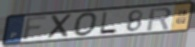8: (125, 9, 145, 32)
F: (20, 15, 51, 42)
L: (98, 11, 119, 35)
O: (73, 11, 100, 37)
R: (146, 7, 174, 32)
X: (47, 13, 75, 40)
